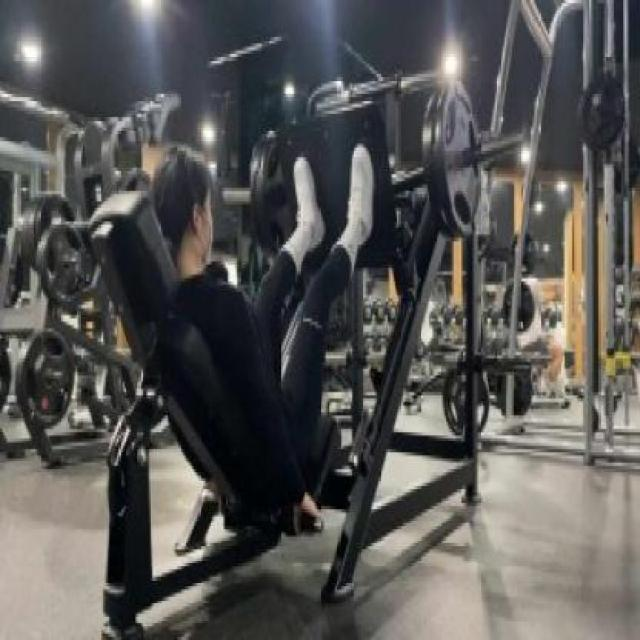leg press: (79, 49, 526, 640)
